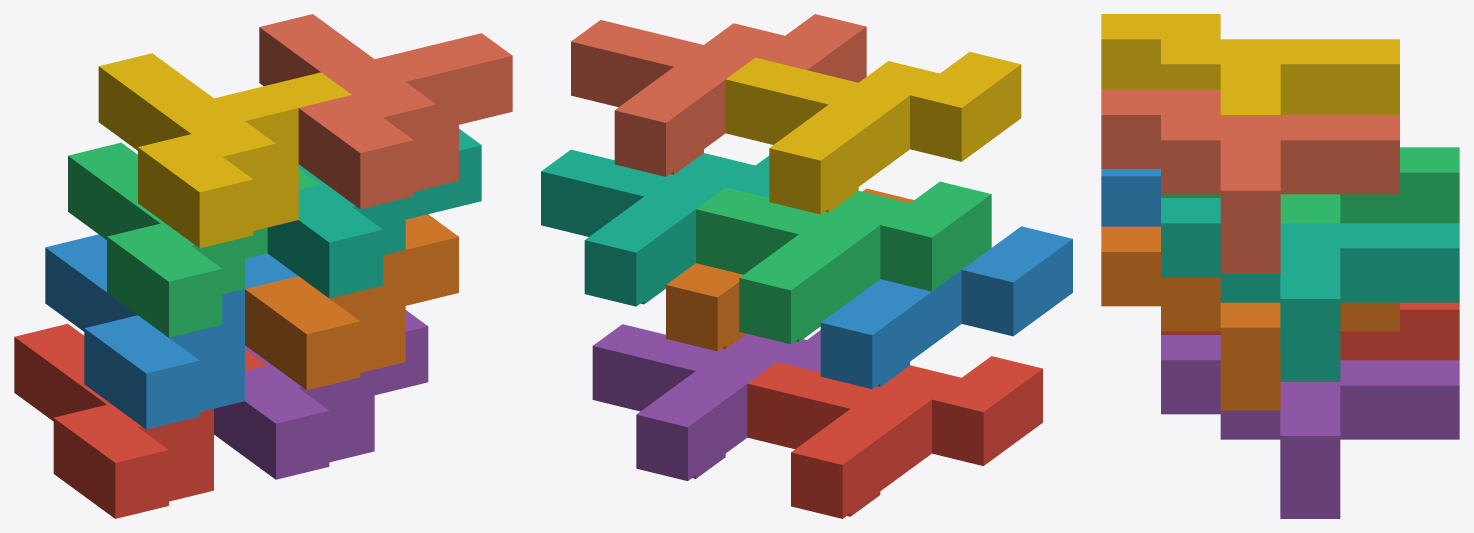
File: tiling.obj
3 views of the same model, side by side, from view 1: azimuth 30°, elevation 25°; view 2: azimuth 150°, elevation 25°; view 3: azimuth 270°, elevation 25° (orthographic). The views are drawn at different scales.
Parts seen in each view (by area): view 1: copy_1_domain_8, copy_1_domain_4, copy_1_domain_2, copy_1_domain_1, copy_1_domain_6, copy_1_domain_3, copy_1_domain_5, copy_1_domain_7; view 2: copy_1_domain_4, copy_1_domain_1, copy_1_domain_3, copy_1_domain_8, copy_1_domain_7, copy_1_domain_2, copy_1_domain_5, copy_1_domain_6; view 3: copy_1_domain_8, copy_1_domain_7, copy_1_domain_5, copy_1_domain_4, copy_1_domain_6, copy_1_domain_3, copy_1_domain_1, copy_1_domain_2.
Part boxes in pixels (x1,y1,x2,y2): copy_1_domain_8: (259, 14, 512, 208); copy_1_domain_4: (98, 53, 351, 248); copy_1_domain_2: (45, 234, 297, 429); copy_1_domain_1: (14, 323, 267, 518); copy_1_domain_6: (245, 214, 458, 390); copy_1_domain_3: (68, 142, 320, 337); copy_1_domain_5: (214, 310, 428, 479); copy_1_domain_7: (267, 129, 481, 298); copy_1_domain_4: (725, 52, 1021, 214); copy_1_domain_1: (747, 356, 1042, 518); copy_1_domain_3: (696, 181, 991, 344); copy_1_domain_8: (571, 14, 866, 176); copy_1_domain_7: (541, 149, 769, 306); copy_1_domain_2: (820, 226, 1072, 389); copy_1_domain_5: (592, 324, 820, 480); copy_1_domain_6: (666, 188, 913, 351); copy_1_domain_8: (1101, 89, 1399, 273); copy_1_domain_7: (1161, 198, 1459, 381); copy_1_domain_5: (1161, 335, 1459, 518); copy_1_domain_4: (1101, 14, 1399, 114); copy_1_domain_6: (1101, 226, 1399, 410); copy_1_domain_3: (1161, 147, 1459, 223); copy_1_domain_1: (1161, 302, 1459, 360); copy_1_domain_2: (1101, 169, 1160, 226).
Bounding box in the file's own units: 8 × 7 × 6.
